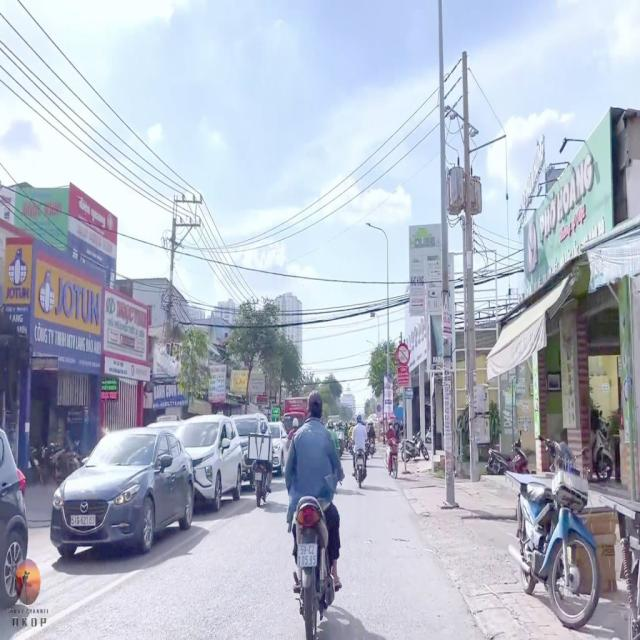cam_cac_loai_xe_3_banh: (396, 342, 410, 366)
